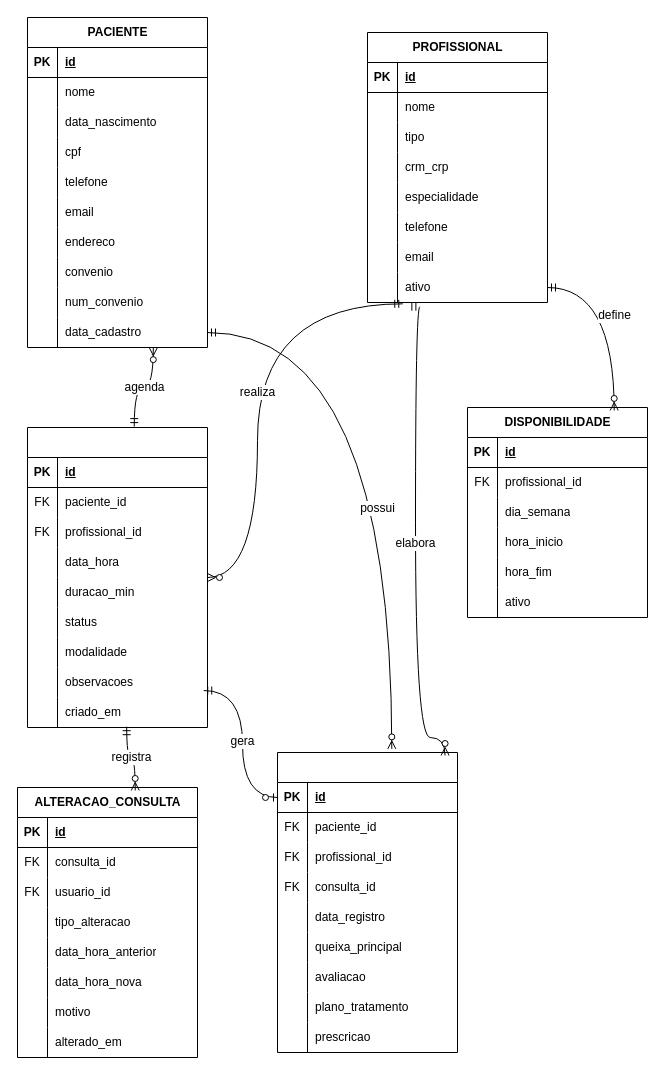
This 665x1075 diagram has some shape labels left out. The box of each missing label's shape, as (x1, y1, x2, y2) in pixels:
CONSULTA: (26, 426, 208, 728)
PRONTUARIO: (276, 752, 458, 1052)
